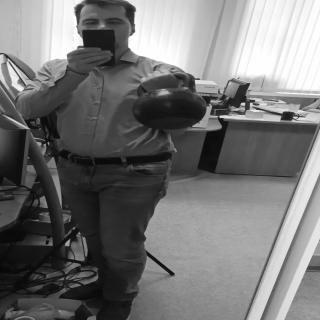girya: (138, 71, 207, 130)
